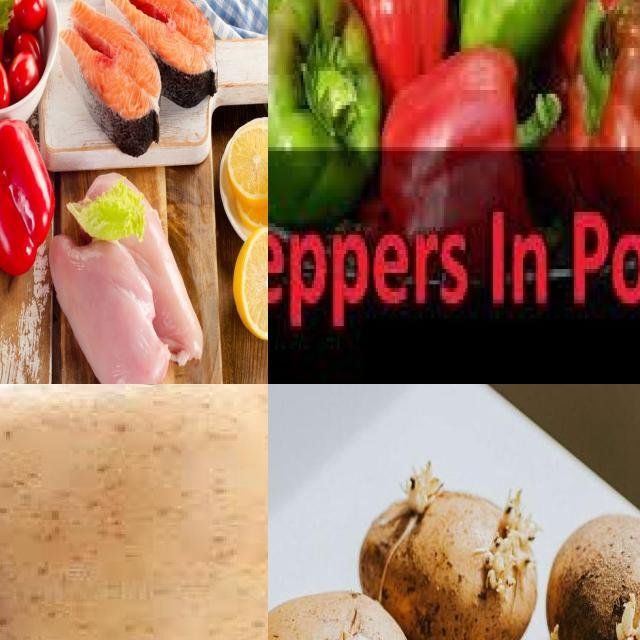bell_pepper: (454, 1, 588, 81), (1, 120, 57, 282)
potato: (1, 385, 269, 640), (361, 491, 538, 640), (547, 516, 640, 640)
tomato: (11, 57, 39, 95), (11, 1, 46, 26), (1, 63, 12, 111), (1, 16, 9, 64)
